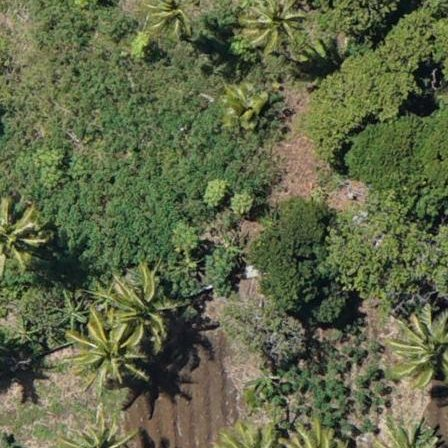palm_tree: (103, 267, 179, 343), (70, 316, 142, 392), (393, 308, 448, 388), (242, 1, 309, 61), (1, 193, 43, 275)
